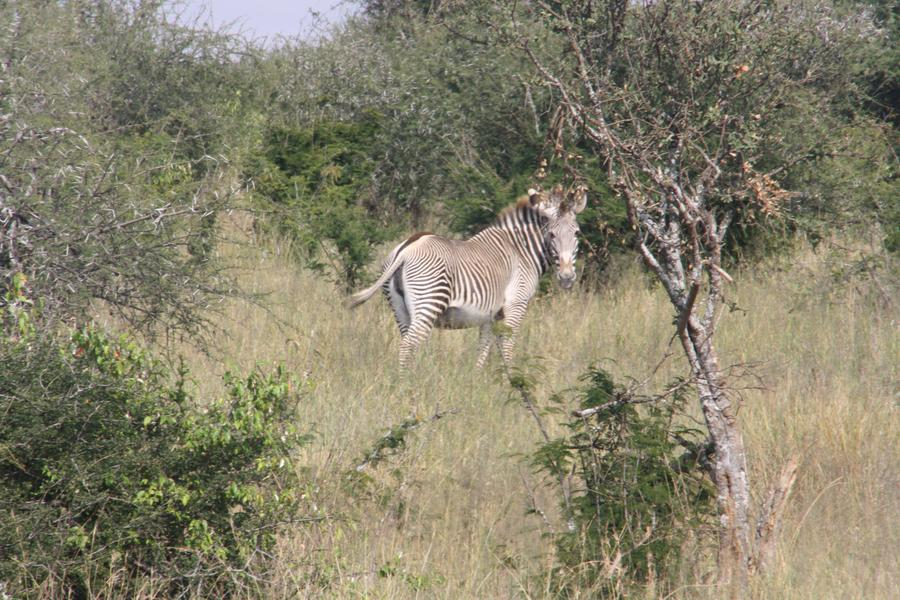zebra_grevys: (391, 224, 535, 314)
